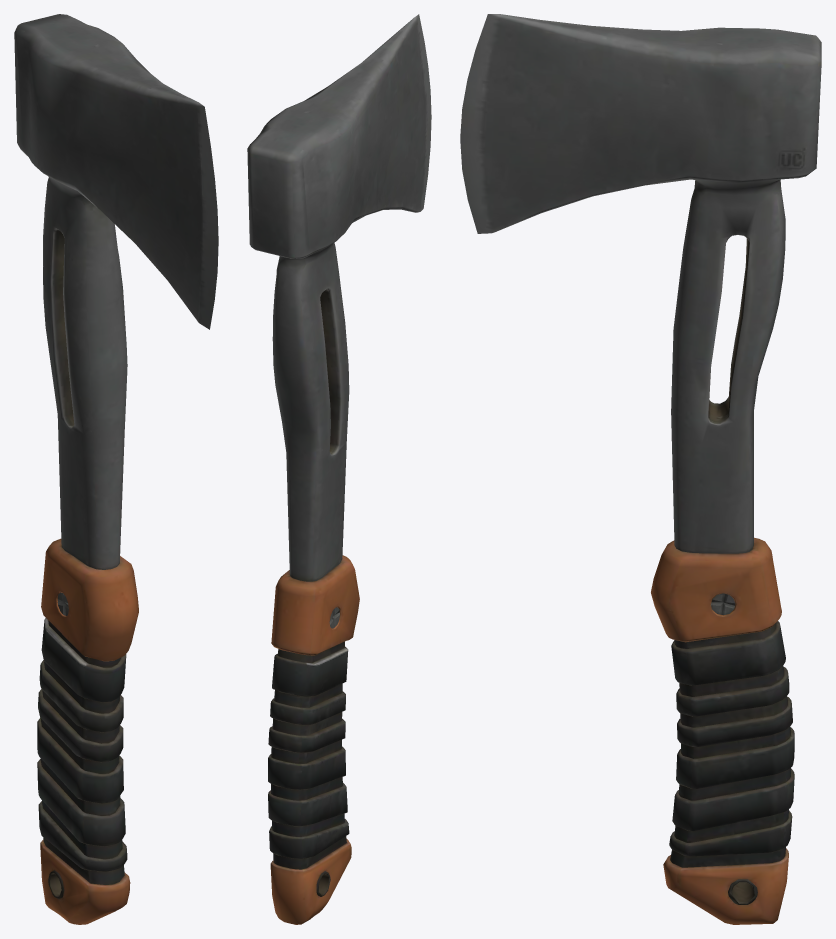
Rendered from hatchet.glb.
3 views of the same model, side by side, from view 1: azimuth 30°, elevation 25°; view 2: azimuth 150°, elevation 25°; view 3: azimuth 270°, elevation 25° (orthographic). The views are drawn at different scales.
Visible parts, largest first — view 1: hatchet; view 2: hatchet; view 3: hatchet.
Part boxes in pixels (x1,y1,x2,y2): hatchet: (14, 14, 218, 924); hatchet: (247, 14, 431, 924); hatchet: (460, 14, 821, 924).
Size of the model in its own units: 0.0259 by 0.2887 by 0.1043.
1 material, 1 textured.
